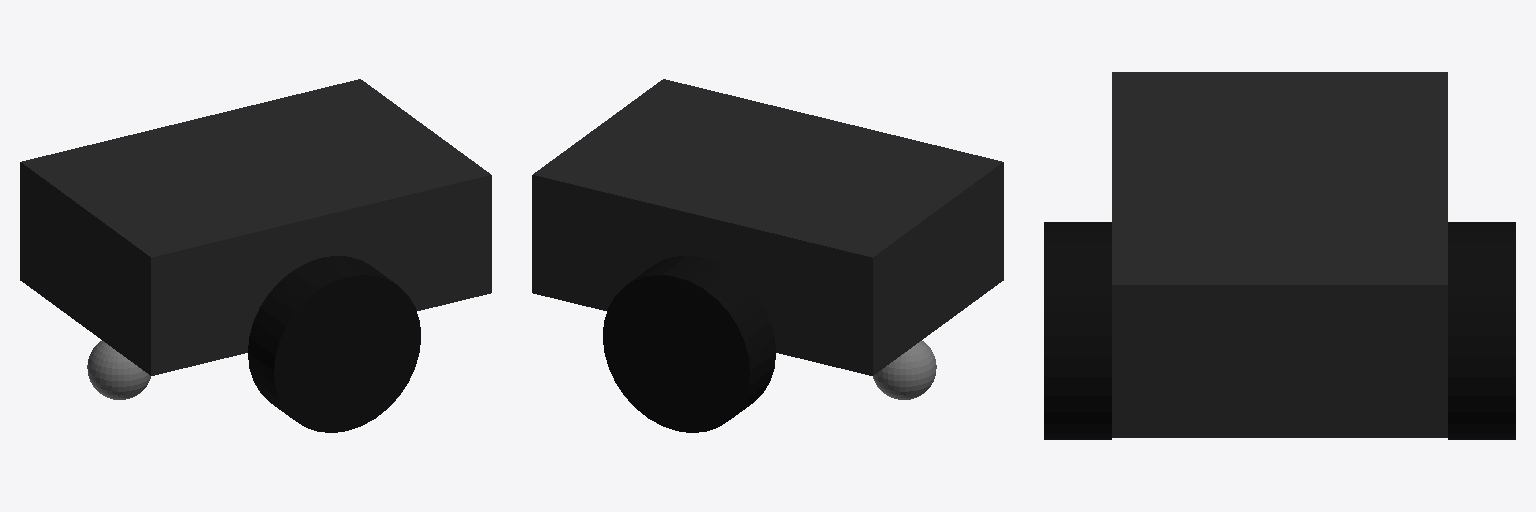
The robot description file, URDF, robot "diffbot":
<?xml version="1.0"?>
<robot name="diffbot">

  <!-- ── Links ──────────────────────────────────────────────────────────────── -->

  <link name="base_footprint"/>

  <link name="base_link">
    <visual>
      <geometry><box size="0.3 0.2 0.1"/></geometry>
      <origin xyz="0 0 0.05" rpy="0 0 0"/>
      <material name="dark_grey"><color rgba="0.2 0.2 0.2 1"/></material>
    </visual>
    <collision>
      <geometry><box size="0.3 0.2 0.1"/></geometry>
      <origin xyz="0 0 0.05" rpy="0 0 0"/>
    </collision>
    <inertial>
      <mass value="5.0"/>
      <inertia ixx="0.05" ixy="0" ixz="0" iyy="0.05" iyz="0" izz="0.05"/>
    </inertial>
  </link>

  <link name="left_wheel_link">
    <visual>
      <geometry><cylinder radius="0.065" length="0.04"/></geometry>
      <origin xyz="0 0 0" rpy="1.5707963 0 0"/>
      <material name="black"><color rgba="0.1 0.1 0.1 1"/></material>
    </visual>
    <collision>
      <geometry><cylinder radius="0.065" length="0.04"/></geometry>
      <origin xyz="0 0 0" rpy="1.5707963 0 0"/>
    </collision>
    <inertial>
      <mass value="0.5"/>
      <inertia ixx="0.001" ixy="0" ixz="0" iyy="0.001" iyz="0" izz="0.001"/>
    </inertial>
  </link>

  <link name="right_wheel_link">
    <visual>
      <geometry><cylinder radius="0.065" length="0.04"/></geometry>
      <origin xyz="0 0 0" rpy="1.5707963 0 0"/>
      <material name="black"/>
    </visual>
    <collision>
      <geometry><cylinder radius="0.065" length="0.04"/></geometry>
      <origin xyz="0 0 0" rpy="1.5707963 0 0"/>
    </collision>
    <inertial>
      <mass value="0.5"/>
      <inertia ixx="0.001" ixy="0" ixz="0" iyy="0.001" iyz="0" izz="0.001"/>
    </inertial>
  </link>

  <link name="caster_link">
    <visual>
      <geometry><sphere radius="0.025"/></geometry>
      <material name="grey"><color rgba="0.5 0.5 0.5 1"/></material>
    </visual>
    <collision>
      <geometry><sphere radius="0.025"/></geometry>
    </collision>
    <inertial>
      <mass value="0.1"/>
      <inertia ixx="0.0001" ixy="0" ixz="0" iyy="0.0001" iyz="0" izz="0.0001"/>
    </inertial>
  </link>

  <!-- ── Joints ─────────────────────────────────────────────────────────────── -->

  <joint name="base_footprint_joint" type="fixed">
    <parent link="base_footprint"/>
    <child  link="base_link"/>
    <origin xyz="0 0 0.065" rpy="0 0 0"/>
  </joint>

  <joint name="left_wheel_joint" type="continuous">
    <parent link="base_link"/>
    <child  link="left_wheel_link"/>
    <origin xyz="0.0 0.12 0" rpy="0 0 0"/>
    <axis xyz="0 1 0"/>
    <dynamics damping="0.01" friction="0.1"/>
  </joint>

  <joint name="right_wheel_joint" type="continuous">
    <parent link="base_link"/>
    <child  link="right_wheel_link"/>
    <origin xyz="0.0 -0.12 0" rpy="0 0 0"/>
    <axis xyz="0 1 0"/>
    <dynamics damping="0.01" friction="0.1"/>
  </joint>

  <joint name="caster_joint" type="fixed">
    <parent link="base_link"/>
    <child  link="caster_link"/>
    <origin xyz="-0.12 0 -0.04" rpy="0 0 0"/>
  </joint>

</robot>

--- Render facts (derived) ---
3 views of the same robot in one strip: view 1: azimuth 30°, elevation 25°; view 2: azimuth 150°, elevation 25°; view 3: azimuth 270°, elevation 25° (orthographic).
Model diffbot with 5 links and 4 joints (2 continuous, 2 fixed), rooted at base_footprint, posed all joints at 0.
Links seen in each view (by area): view 1: base_link, right_wheel_link, caster_link; view 2: base_link, left_wheel_link, caster_link; view 3: base_link, left_wheel_link, right_wheel_link.
Link boxes in pixels (x1=…): base_link: x1=20, y1=79, x2=491, y2=375; right_wheel_link: x1=248, y1=256, x2=420, y2=432; caster_link: x1=87, y1=341, x2=150, y2=399; base_link: x1=532, y1=79, x2=1003, y2=375; left_wheel_link: x1=603, y1=256, x2=775, y2=432; caster_link: x1=873, y1=341, x2=936, y2=399; base_link: x1=1112, y1=72, x2=1447, y2=437; left_wheel_link: x1=1448, y1=222, x2=1515, y2=439; right_wheel_link: x1=1044, y1=222, x2=1111, y2=439.
Bounding box of the posed robot: 0.3 × 0.28 × 0.165 m (x, y, z).
Geometry: primitives only (box / cylinder / sphere), no mesh files.
